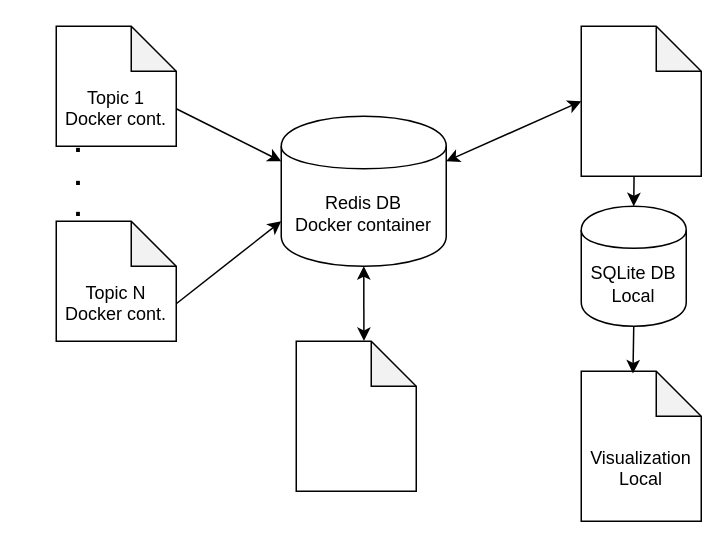
Image size: 728x548. Some labels were removed from this diagram. Each missing label, with the centre of its shape:
"Aggregator Docker cont." goes at point (355, 415).
"TopicViewer Local" goes at point (640, 100).
